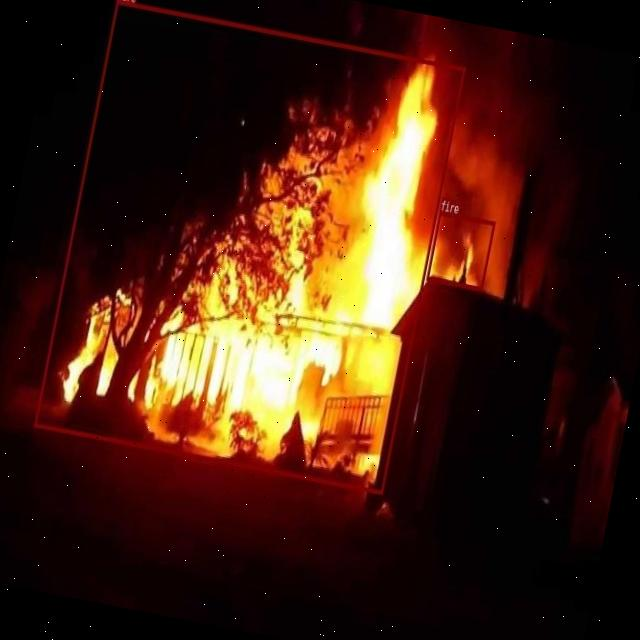fire: (33, 0, 464, 494), (427, 210, 496, 290)
